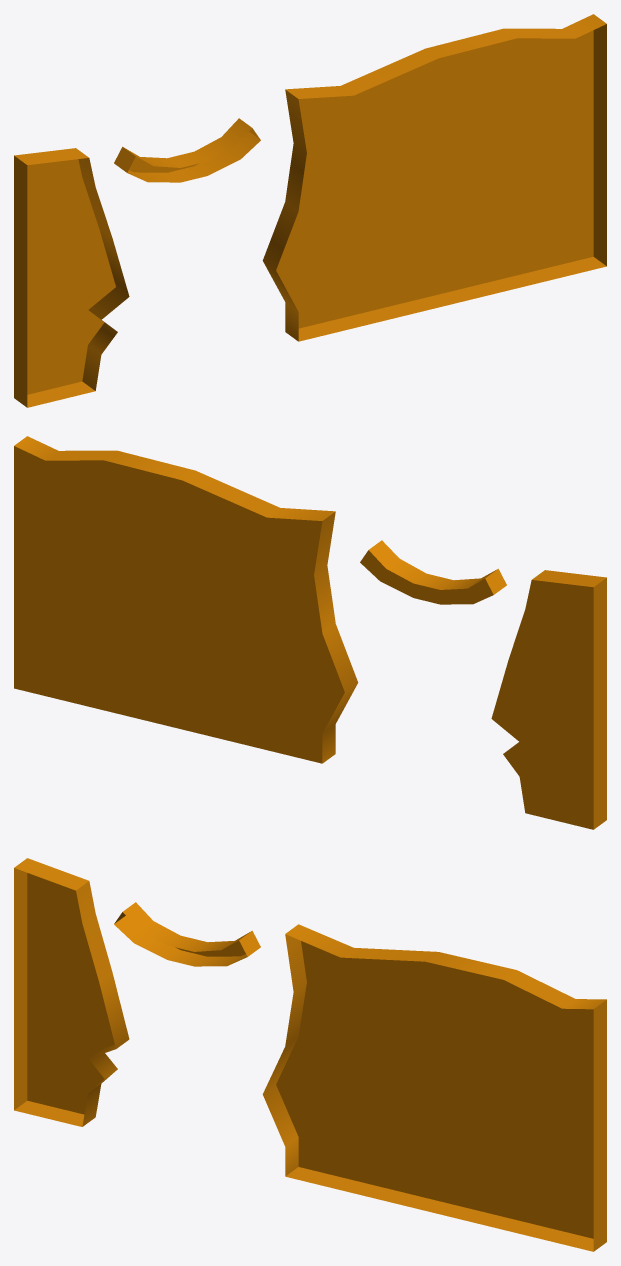
Rendered from lollipop bridge low res.fbx.
The picture shows the model from 3 angles, top to bottom: view 1: azimuth 30°, elevation 25°; view 2: azimuth 150°, elevation 25°; view 3: azimuth 330°, elevation 25°; orthographic projection.
Parts seen in each view (by area): view 1: Lollipop_bridge_terrain, chasm_right1; view 2: Lollipop_bridge_terrain, chasm_right1; view 3: Lollipop_bridge_terrain, chasm_right1.
Boxes of the visible parts, bbox=[...] form: Lollipop_bridge_terrain: bbox=[14, 14, 606, 407]; chasm_right1: bbox=[114, 118, 260, 182]; Lollipop_bridge_terrain: bbox=[14, 436, 606, 829]; chasm_right1: bbox=[360, 540, 506, 604]; Lollipop_bridge_terrain: bbox=[14, 858, 606, 1251]; chasm_right1: bbox=[114, 902, 260, 966].
Size of the model in its own units: 25 by 10.31 by 1.
